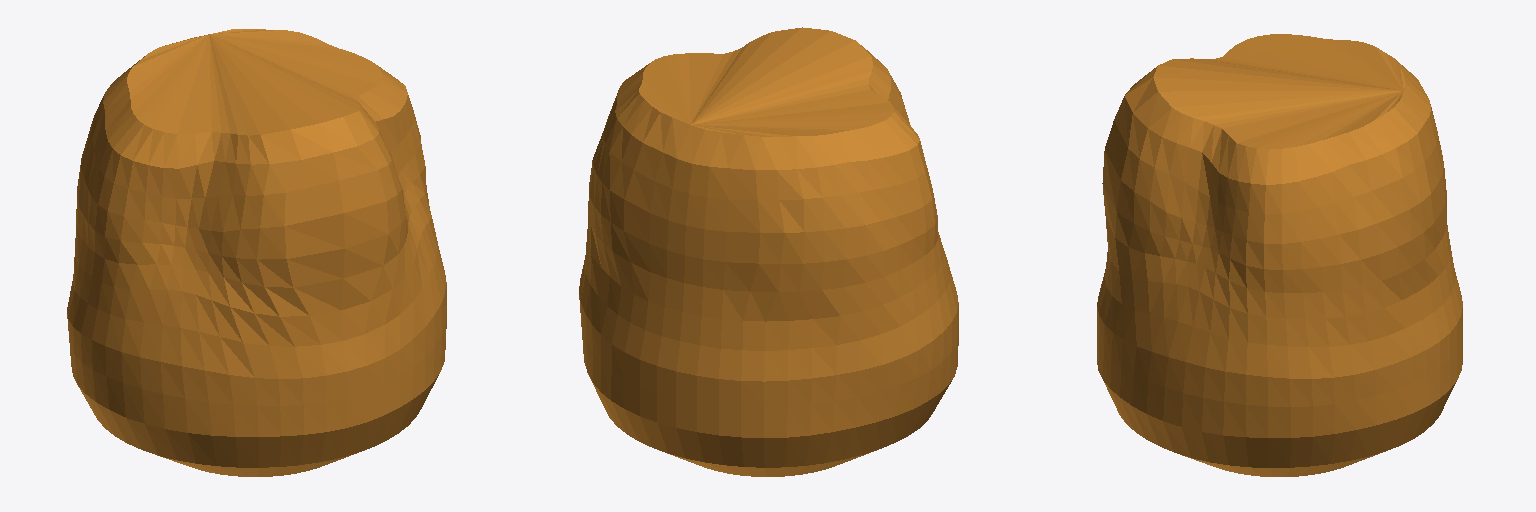
Rendered from tejest.obj.
3 views of the same model, side by side, from view 1: azimuth 30°, elevation 25°; view 2: azimuth 150°, elevation 25°; view 3: azimuth 270°, elevation 25° (orthographic).
Visible parts, largest first — view 1: Cylinder; view 2: Cylinder; view 3: Cylinder.
Boxes of the visible parts, x1,y1,x2,y2 form: Cylinder: [67, 29, 446, 476]; Cylinder: [579, 27, 958, 476]; Cylinder: [1097, 34, 1462, 476].
Size of the model in its own units: 2.35 by 2.36 by 2.19.